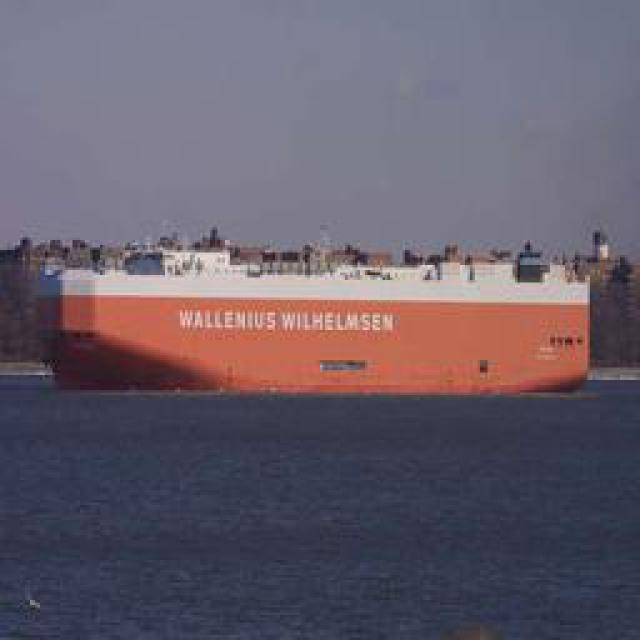Ship: (61, 216, 566, 396)
